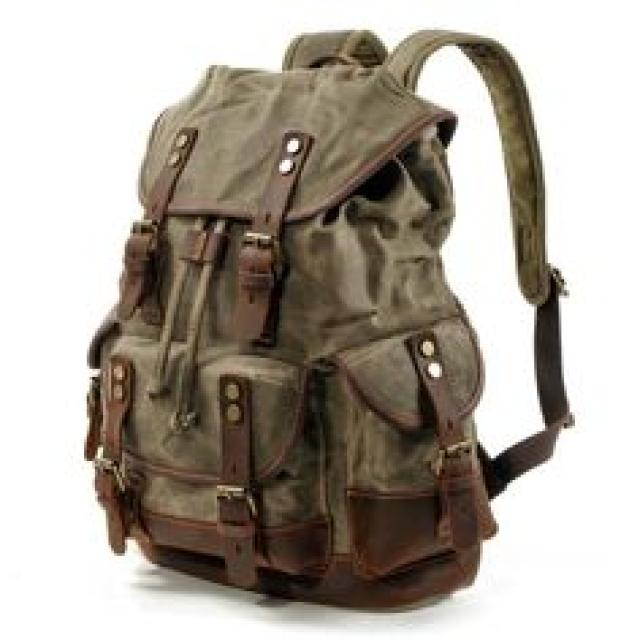backpack: (83, 26, 574, 612)
